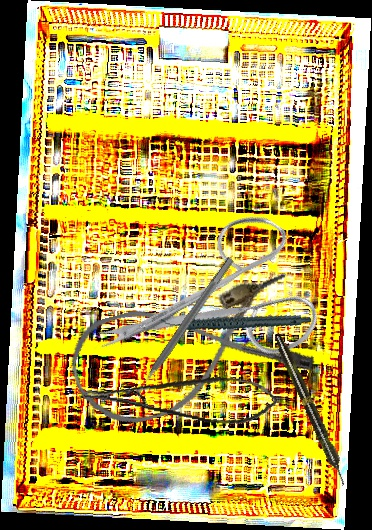Cannula: (59, 269, 319, 436)
Fixation Ring: (123, 251, 243, 410)
Handpiece: (271, 333, 351, 488), (159, 286, 312, 356)
Iris Scissors: (90, 174, 351, 440)
Micro Scissor: (82, 352, 280, 435)
